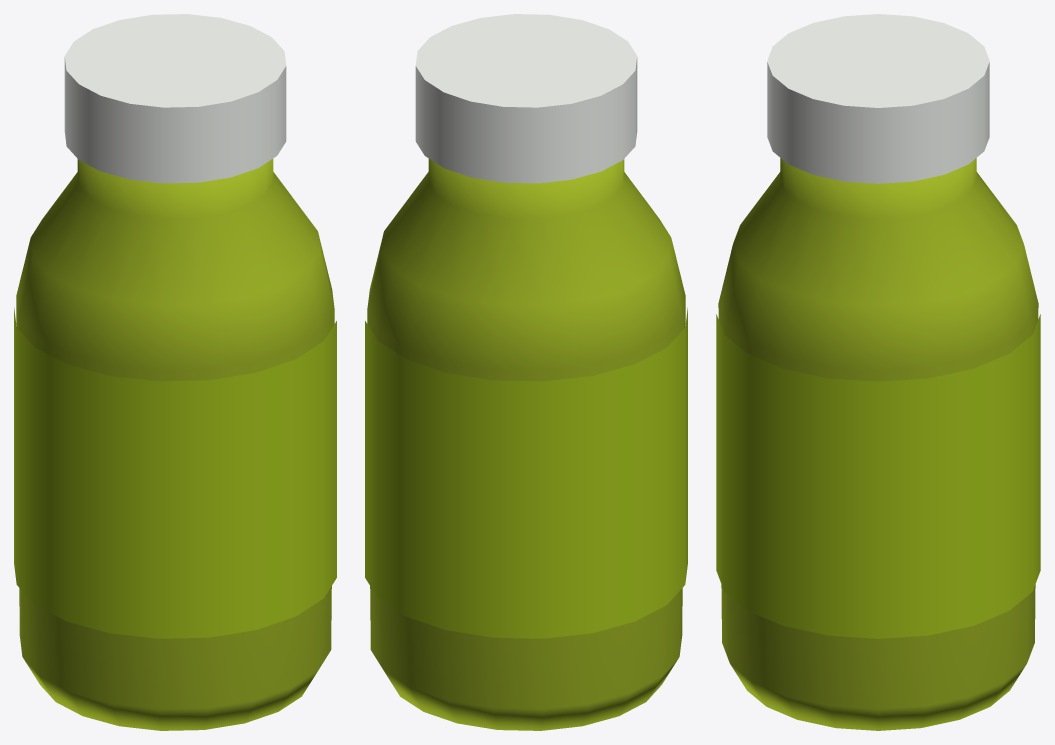
File: bottle-2.glb
The picture shows the model from 3 angles, left to right: view 1: azimuth 30°, elevation 25°; view 2: azimuth 150°, elevation 25°; view 3: azimuth 270°, elevation 25°; orthographic projection.
Parts seen in each view (by area): view 1: BrandLabel, JuiceBody, BottleCap; view 2: BrandLabel, JuiceBody, BottleCap; view 3: BrandLabel, JuiceBody, BottleCap.
Part boxes in pixels (left/top/right/bottom): BrandLabel: left=14, top=307, right=336, bottom=638; JuiceBody: left=16, top=159, right=334, bottom=730; BottleCap: left=64, top=14, right=286, bottom=183; BrandLabel: left=365, top=307, right=687, bottom=638; JuiceBody: left=367, top=159, right=685, bottom=730; BottleCap: left=415, top=14, right=637, bottom=183; BrandLabel: left=716, top=314, right=1040, bottom=638; JuiceBody: left=718, top=158, right=1038, bottom=730; BottleCap: left=767, top=14, right=989, bottom=183.
Size of the model in its own units: 0.446 by 0.9275 by 0.446.
